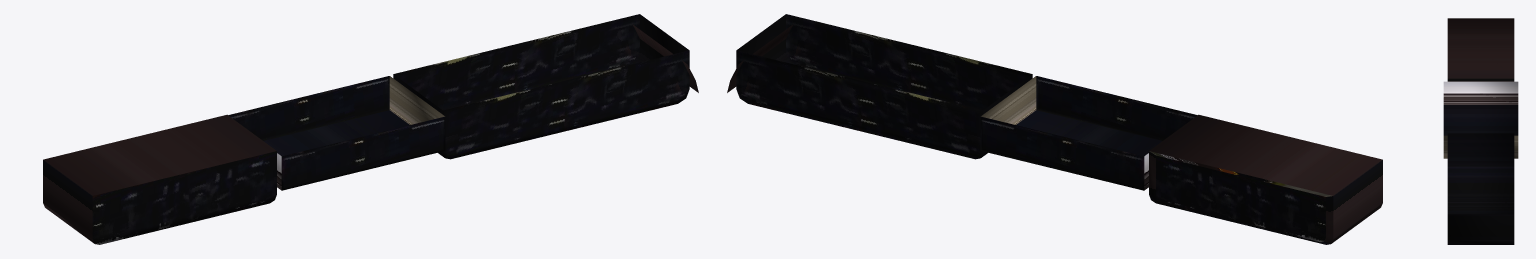
The model's file is heritage-1953ea-wheels.glb.
3 renders of one model, left to right at view 1: azimuth 30°, elevation 25°; view 2: azimuth 150°, elevation 25°; view 3: azimuth 270°, elevation 25°, orthographic. The views are drawn at different scales.
Visible parts, largest first — view 1: train1953ea_model.001; view 2: train1953ea_model.001; view 3: train1953ea_model.001.
Boxes of the visible parts, bbox=[...] form: train1953ea_model.001: bbox=[43, 14, 698, 244]; train1953ea_model.001: bbox=[727, 14, 1382, 244]; train1953ea_model.001: bbox=[1443, 18, 1518, 244].
Size of the model in its own units: 19.31 by 1.5 by 3.24.
1 material, 1 textured.
